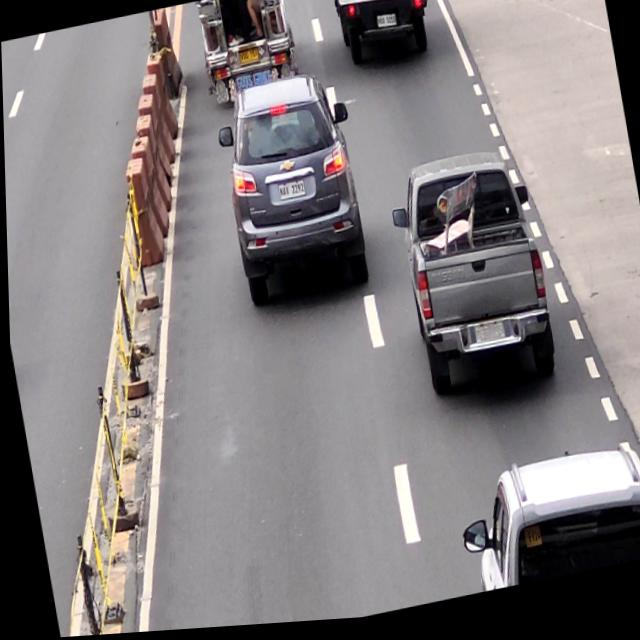Car: (385, 146, 559, 413), (212, 73, 374, 310), (447, 438, 640, 601)
Jeep: (195, 0, 300, 112)
License-Plate: (276, 183, 305, 204), (238, 48, 260, 68), (375, 17, 397, 35)
Truck: (328, 0, 439, 78)
